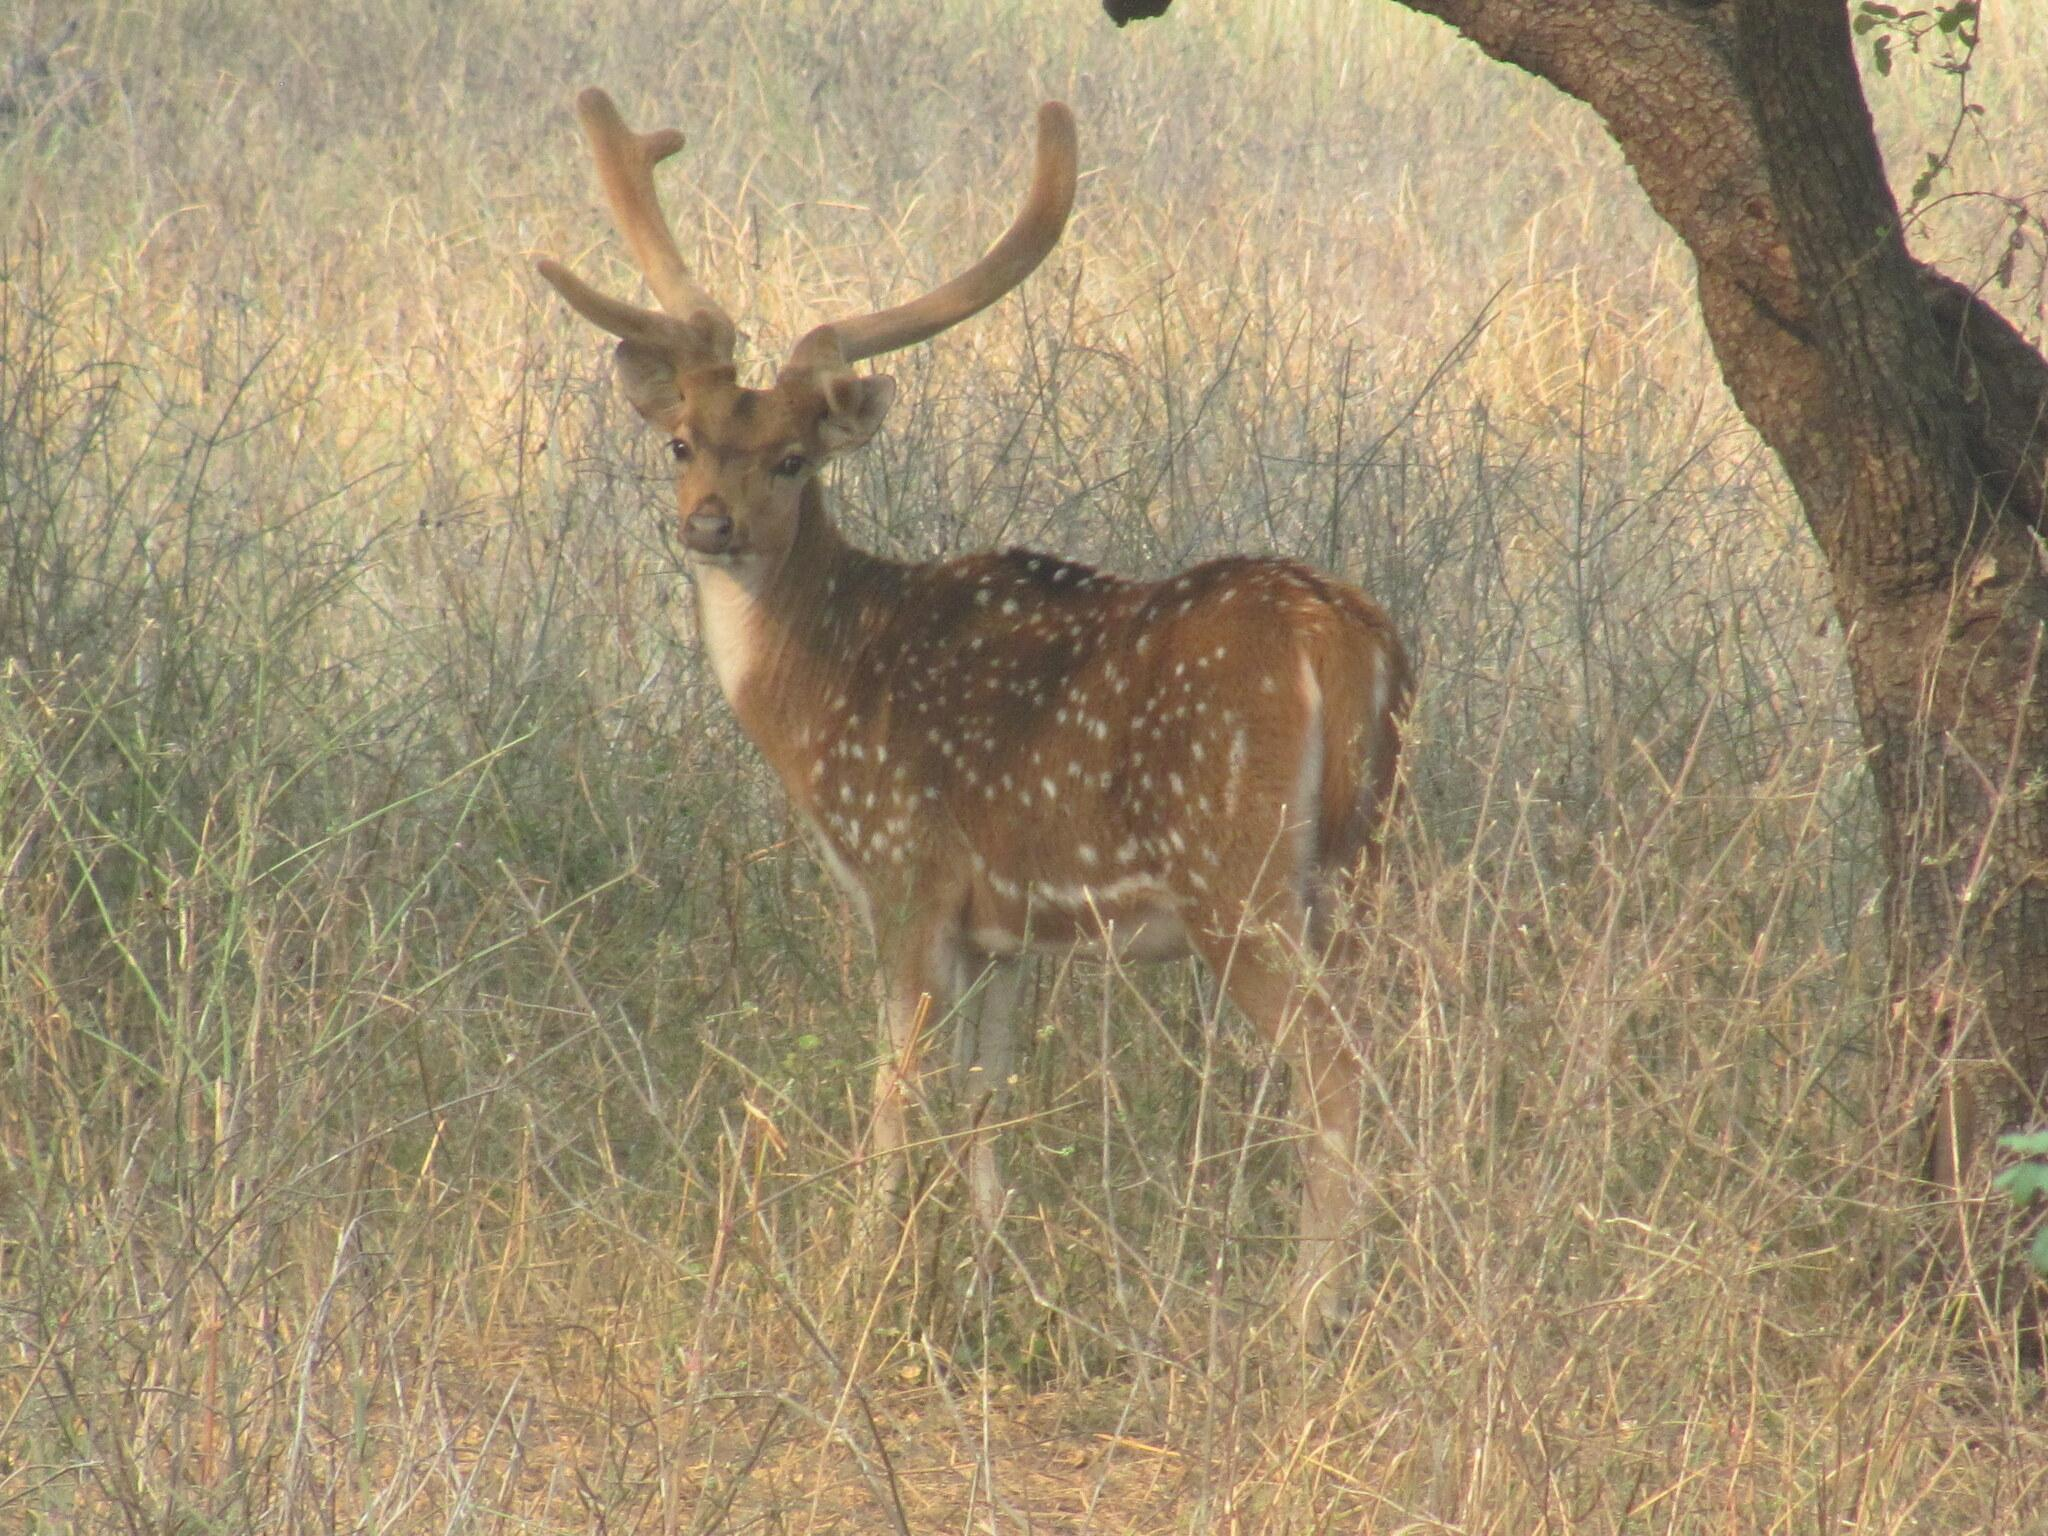Deer: (535, 89, 1411, 1297)
